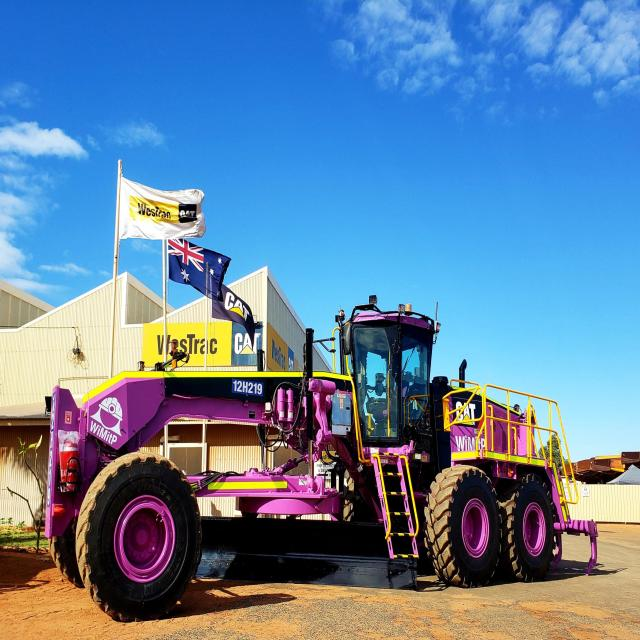buldozerpayloadergrader: (39, 291, 608, 619)
